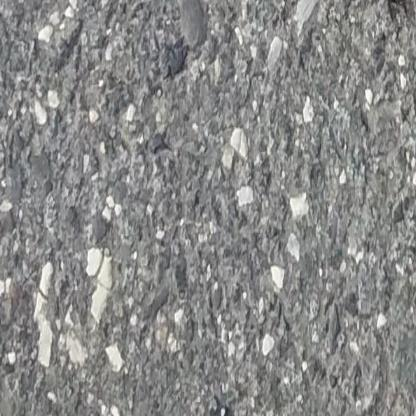Cracks: (358, 0, 416, 17)
